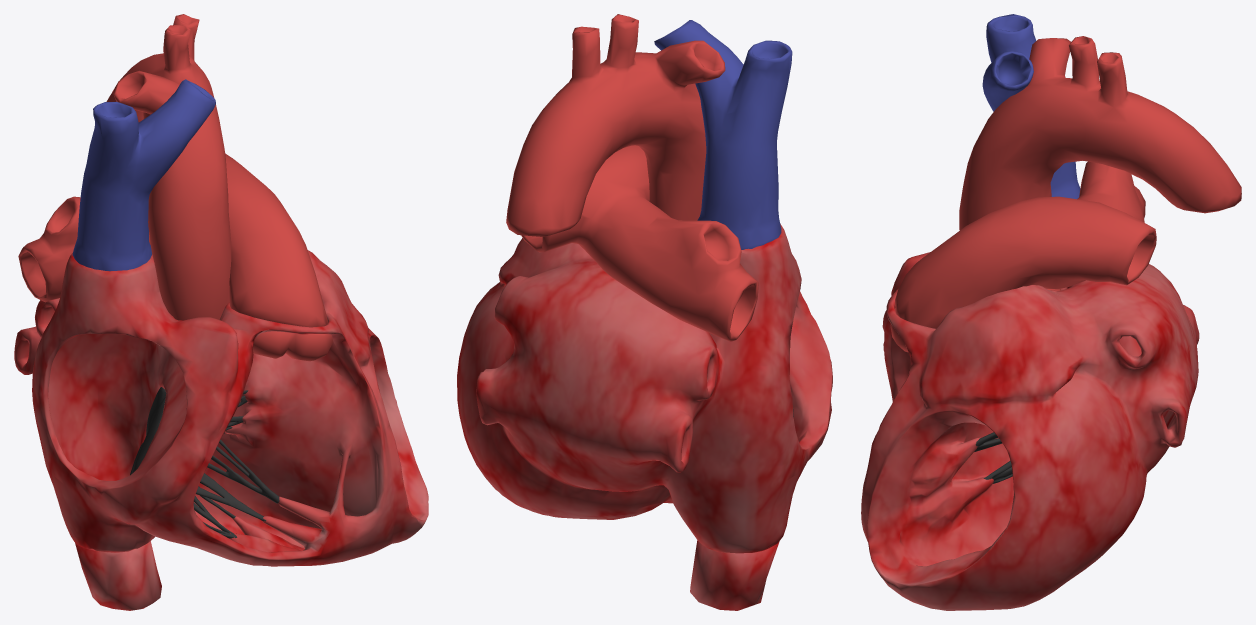
The model's file is heart_opt1.fbx.
The picture shows the model from 3 angles, left to right: view 1: azimuth 30°, elevation 25°; view 2: azimuth 150°, elevation 25°; view 3: azimuth 270°, elevation 25°; orthographic projection. The views are drawn at different scales.
Parts seen in each view (by area): view 1: main body.001, aorta 1.001, pulmonary artery.001, superior vena cava .001, UMesh_inferior vena cava.001, tricuspid valve .001, pulmonary valve.001, tricuspid valve.001; view 2: main body.001, aorta 1.001, pulmonary artery.001, superior vena cava .001, UMesh_inferior vena cava.001; view 3: main body.001, aorta 1.001, pulmonary artery.001, superior vena cava .001, bicuspid valve1.001.
Part boxes in pixels (box(x1,y1,x2,y2)): main body.001: box(14, 250, 428, 566); aorta 1.001: box(106, 14, 231, 320); pulmonary artery.001: box(18, 153, 328, 327); superior vena cava .001: box(72, 79, 215, 271); UMesh_inferior vena cava.001: box(75, 541, 161, 610); tricuspid valve .001: box(132, 397, 279, 521); pulmonary valve.001: box(252, 331, 333, 361); tricuspid valve.001: box(130, 387, 248, 538); main body.001: box(457, 224, 832, 553); aorta 1.001: box(506, 14, 725, 236); pulmonary artery.001: box(521, 145, 758, 341); superior vena cava .001: box(654, 20, 792, 249); UMesh_inferior vena cava.001: box(690, 540, 779, 610); main body.001: box(861, 252, 1199, 610); aorta 1.001: box(959, 36, 1241, 291); pulmonary artery.001: box(895, 161, 1156, 328); superior vena cava .001: box(982, 14, 1080, 199); bicuspid valve1.001: box(974, 432, 1012, 483).
Bounding box in the file's own units: 10.08 × 15.72 × 10.01.
